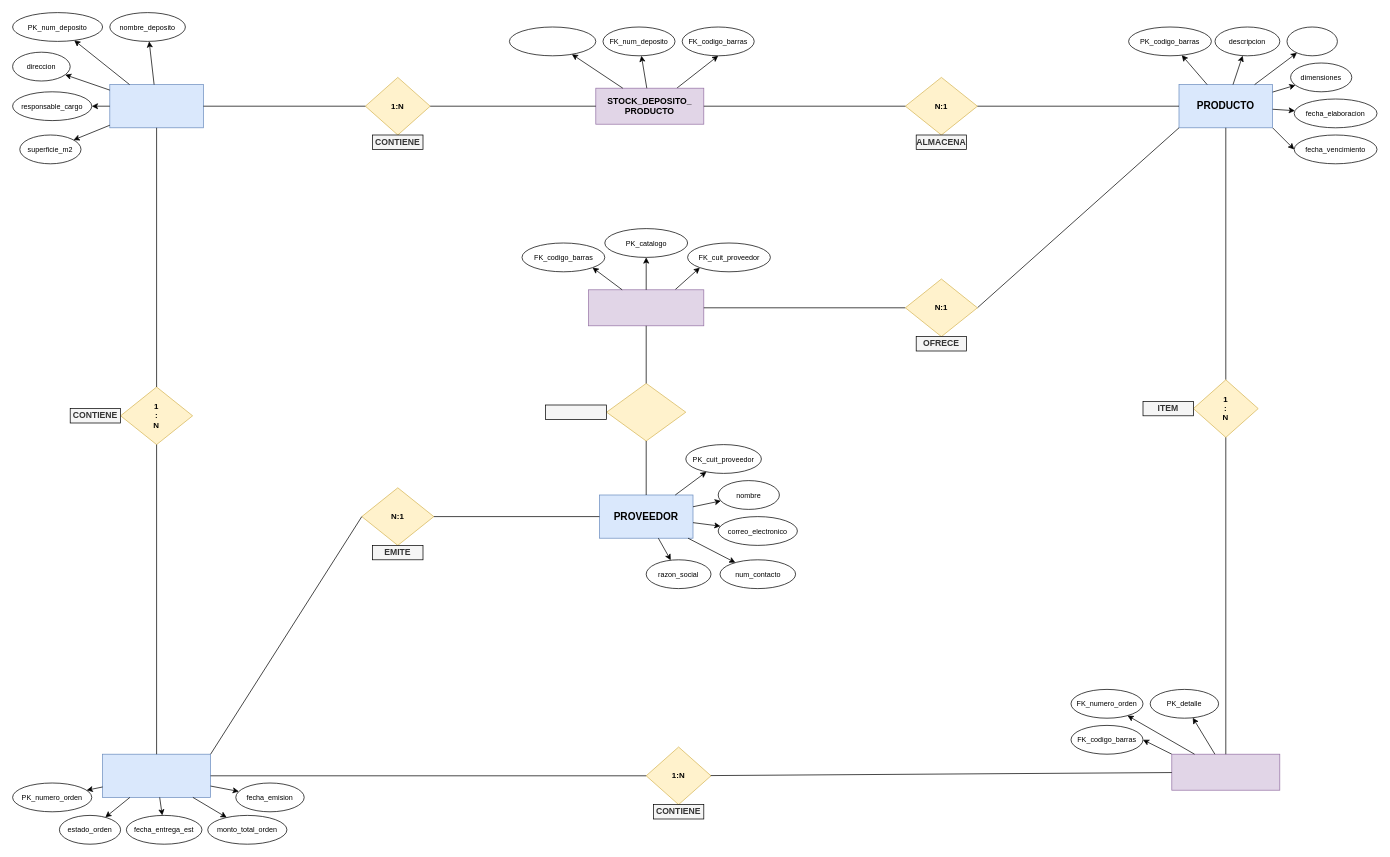
Some shapes in this 1390 by 857 pixel diagram are drawn without their labels. The shapes that lost their labels are listed below. From the top down, each one's box as (x1, y1, x2, y2) in pixels, then its label:
(509, 26, 596, 56): PK_stock
(1286, 26, 1337, 56): peso
(109, 84, 203, 128): DEPOSITO
(588, 289, 704, 326): CATALOGO_PROVEEDOR_ PRODUCTO
(545, 404, 607, 419): SUMINISTRA
(606, 383, 686, 441): N : 1
(102, 753, 211, 797): ORDEN_COMPRA
(1171, 753, 1280, 790): DETALLE_ORDEN_ PRODUCTO
